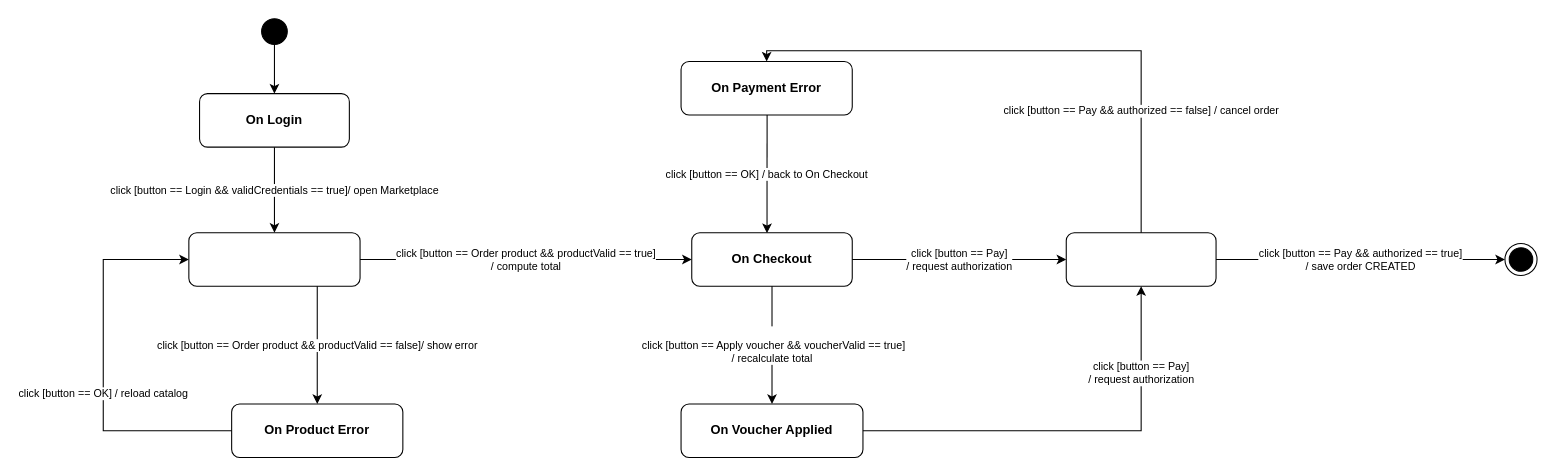
The diagram is 1556 pixels wide and 476 high, and some of its shapes have lost their labels. Here are the shapes that lost their labels. From the top down, the centre of each, then its label:
At [274,259]: "On Marketplace".
At [1140,259]: "On Payment".
